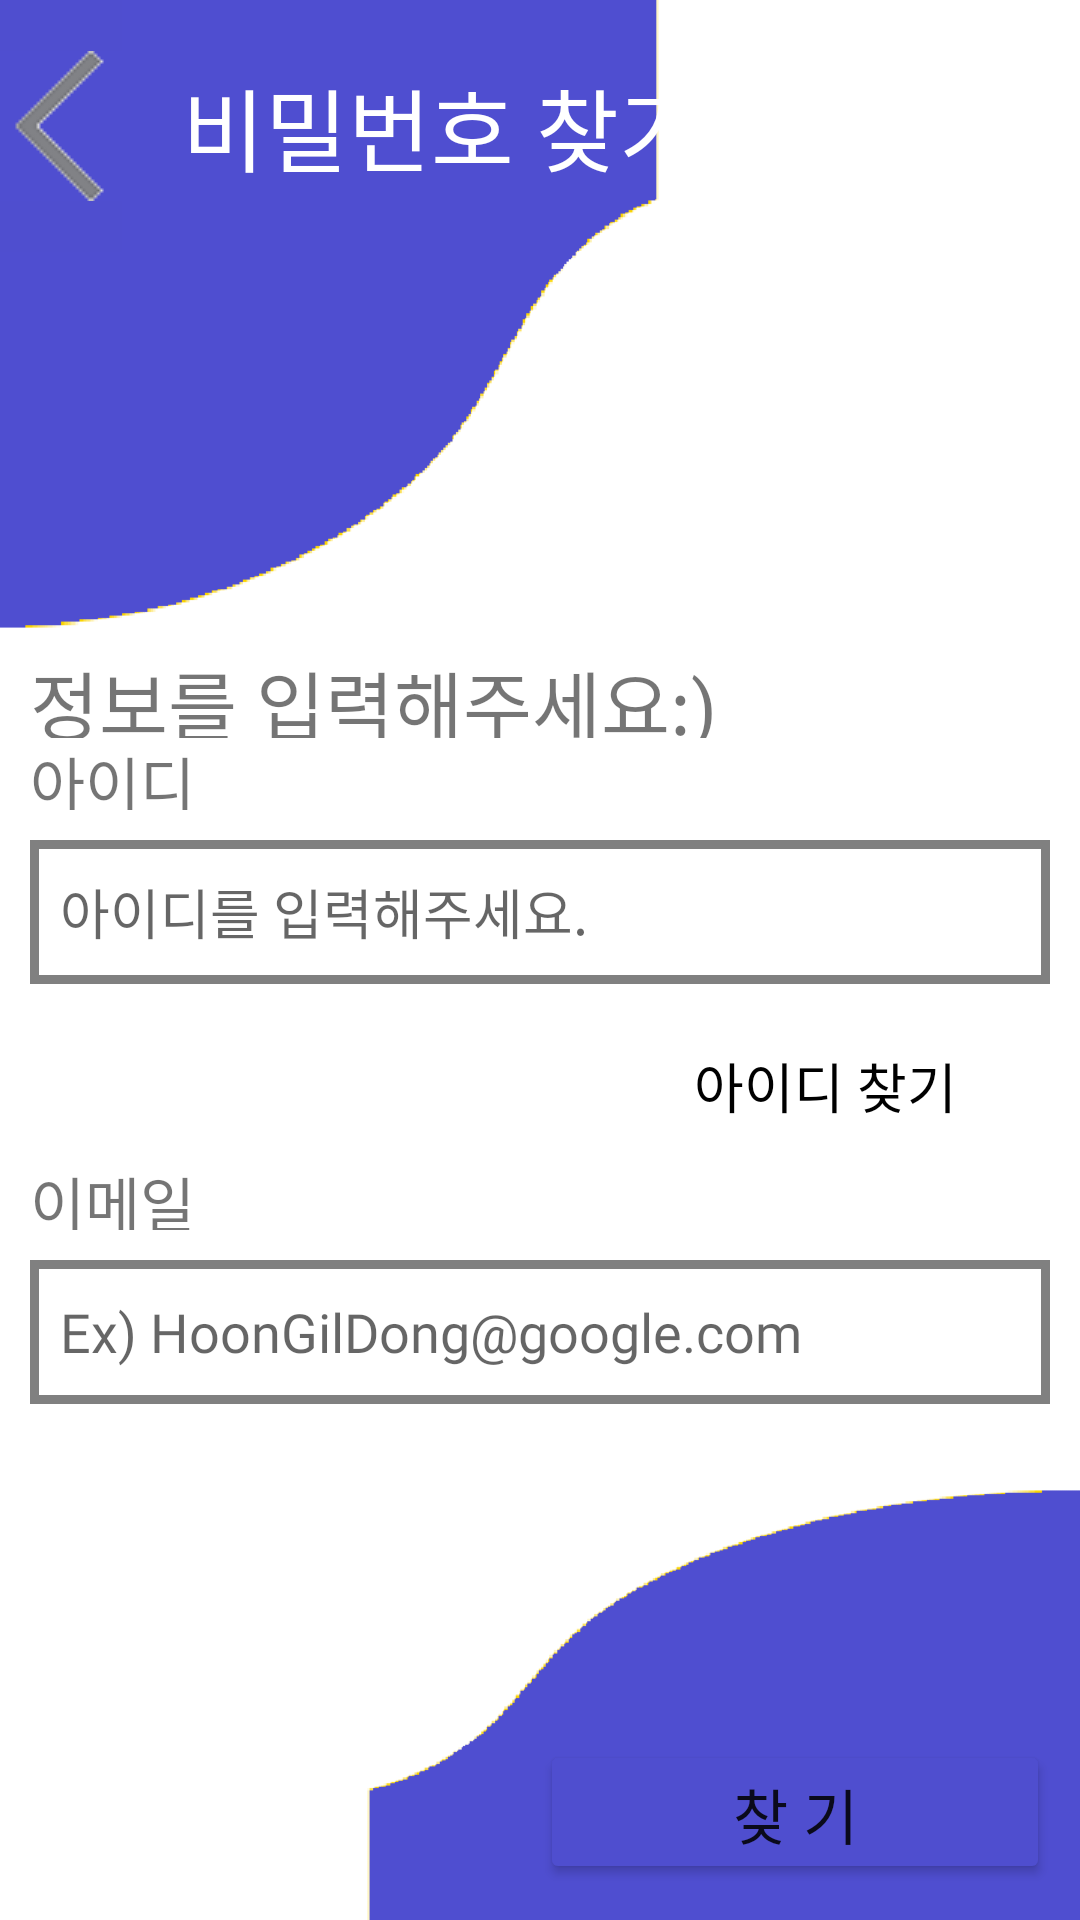

Icon bounding boxes for this 1080*1920 phone screenshot, format (x1, y1, x2, y2):
back space: (15, 51, 104, 201)
